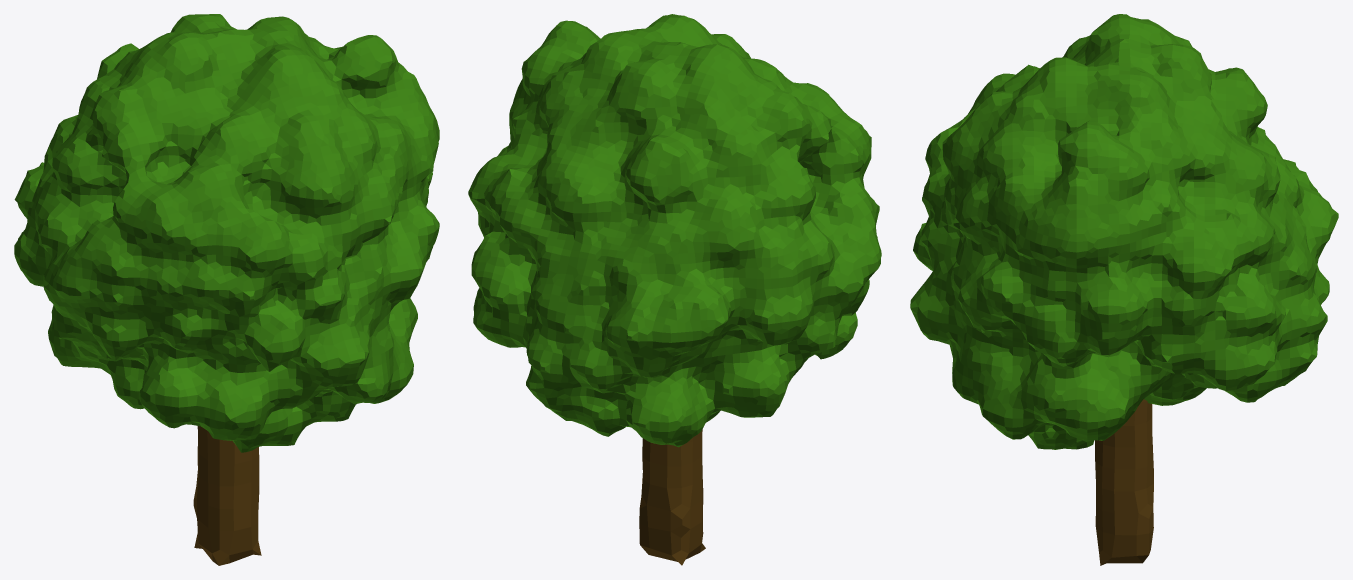
The model's file is Tree2.fbx.
The picture shows the model from 3 angles, left to right: view 1: azimuth 30°, elevation 25°; view 2: azimuth 150°, elevation 25°; view 3: azimuth 270°, elevation 25°; orthographic projection. The views are drawn at different scales.
Parts seen in each view (by area): view 1: Tree2; view 2: Tree2; view 3: Tree2.
Boxes of the visible parts, x1,y1,x2,y2 form: Tree2: (14,14,439,565); Tree2: (468,14,881,565); Tree2: (910,14,1338,565).
Bounding box in the file's own units: 1226 × 1606 × 1205.
